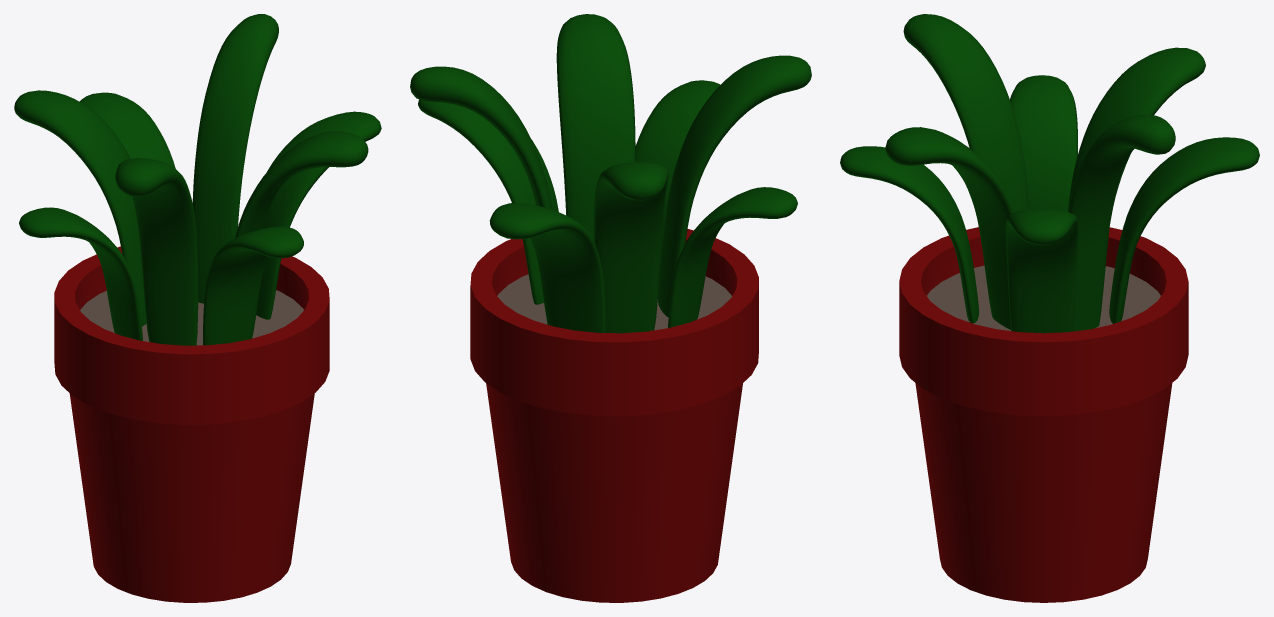
The model's file is Plante3_4.fbx.
3 views of the same model, side by side, from view 1: azimuth 30°, elevation 25°; view 2: azimuth 150°, elevation 25°; view 3: azimuth 270°, elevation 25° (orthographic). The views are drawn at different scales.
Visible parts, largest first — view 1: pCylinder728, pCube1923, pCube1927, pCube1921, pCube1926, pCube1928, pCube1925, pCube1922, pCube1924, pCylinder729; view 2: pCylinder728, pCube1922, pCube1921, pCube1927, pCube1924, pCube1928, pCube1923, pCube1925, pCube1926, pCylinder729; view 3: pCylinder728, pCube1927, pCube1923, pCube1925, pCube1922, pCube1928, pCube1924, pCube1921, pCube1926, pCylinder729.
Part boxes in pixels (bbox=[...]): pCylinder728: bbox=[54, 246, 329, 602]; pCube1923: bbox=[192, 14, 278, 303]; pCube1927: bbox=[115, 158, 198, 345]; pCube1921: bbox=[14, 90, 146, 326]; pCube1926: bbox=[203, 226, 303, 345]; pCube1928: bbox=[19, 207, 142, 340]; pCube1925: bbox=[256, 111, 381, 319]; pCube1922: bbox=[235, 131, 368, 237]; pCube1924: bbox=[79, 92, 175, 168]; pCylinder729: bbox=[80, 290, 303, 345]; pCylinder728: bbox=[470, 229, 758, 602]; pCube1922: bbox=[556, 14, 635, 240]; pCube1921: bbox=[594, 162, 668, 333]; pCube1927: bbox=[658, 55, 811, 317]; pCube1924: bbox=[489, 203, 605, 332]; pCube1928: bbox=[668, 187, 797, 327]; pCube1923: bbox=[410, 66, 552, 209]; pCube1925: bbox=[418, 99, 558, 304]; pCube1926: bbox=[635, 80, 720, 279]; pCylinder729: bbox=[497, 274, 731, 330]; pCylinder728: bbox=[899, 227, 1188, 602]; pCube1927: bbox=[903, 14, 1028, 211]; pCube1923: bbox=[1068, 114, 1175, 331]; pCube1925: bbox=[1005, 208, 1078, 333]; pCube1922: bbox=[885, 127, 1014, 329]; pCube1928: bbox=[1010, 75, 1077, 211]; pCube1924: bbox=[1109, 137, 1259, 323]; pCube1921: bbox=[1068, 47, 1205, 221]; pCube1926: bbox=[840, 146, 979, 323]; pCylinder729: bbox=[927, 265, 1160, 330].
Size of the model in its own units: 16.65 by 21.34 by 16.27.
